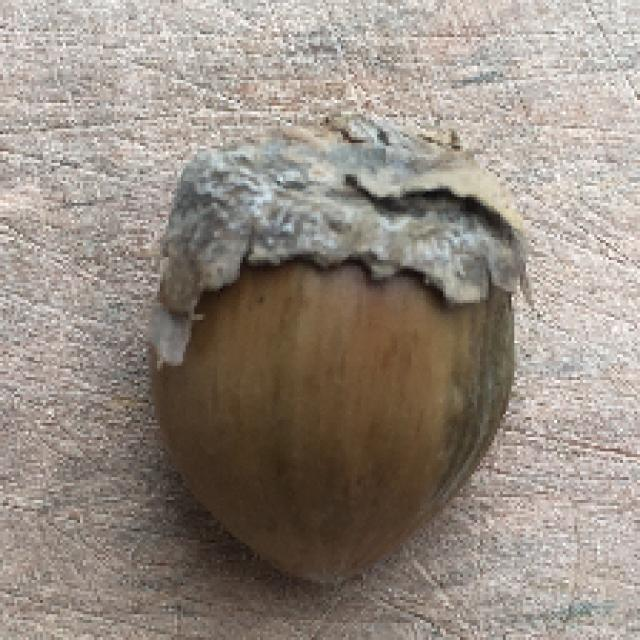damagedHazelnut: (134, 93, 530, 594)
